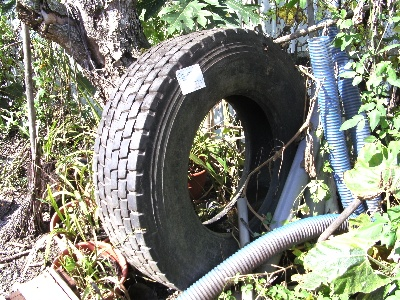tire: (94, 25, 313, 291)
